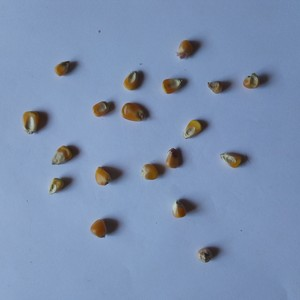maiz: (120, 100, 148, 124), (218, 150, 249, 171), (19, 109, 42, 134), (160, 74, 184, 96), (91, 163, 112, 187), (182, 118, 203, 141), (89, 216, 109, 240), (51, 145, 73, 165), (197, 244, 217, 266), (163, 146, 182, 169), (138, 163, 160, 182), (124, 68, 142, 91), (51, 59, 75, 76), (171, 197, 188, 221), (174, 39, 194, 59), (47, 177, 67, 197), (90, 99, 110, 118), (206, 77, 227, 95), (244, 72, 262, 91)
